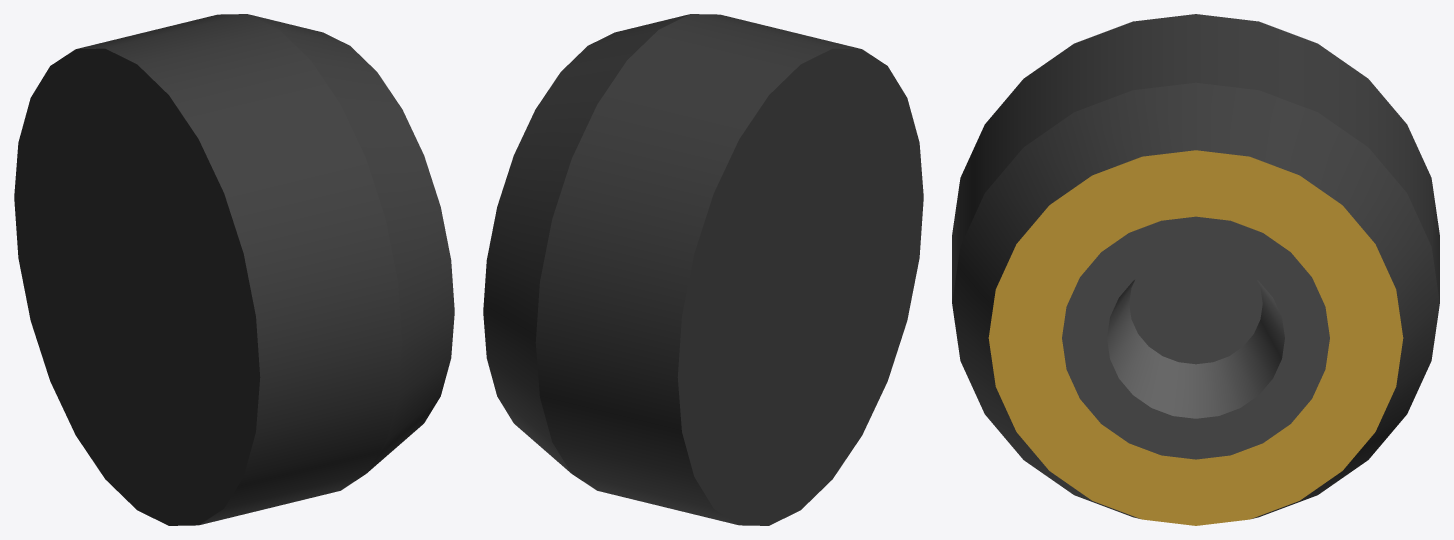
File: wheelRacing.fbx
The picture shows the model from 3 angles, left to right: view 1: azimuth 30°, elevation 25°; view 2: azimuth 150°, elevation 25°; view 3: azimuth 270°, elevation 25°; orthographic projection.
Parts seen in each view (by area): view 1: wheelRacing; view 2: wheelRacing; view 3: wheelRacing.
Part boxes in pixels (x1,y1,x2,y2): wheelRacing: [14, 14, 454, 525]; wheelRacing: [483, 14, 923, 525]; wheelRacing: [952, 14, 1439, 525].
Bounding box in the file's own units: 3 × 6 × 6.
